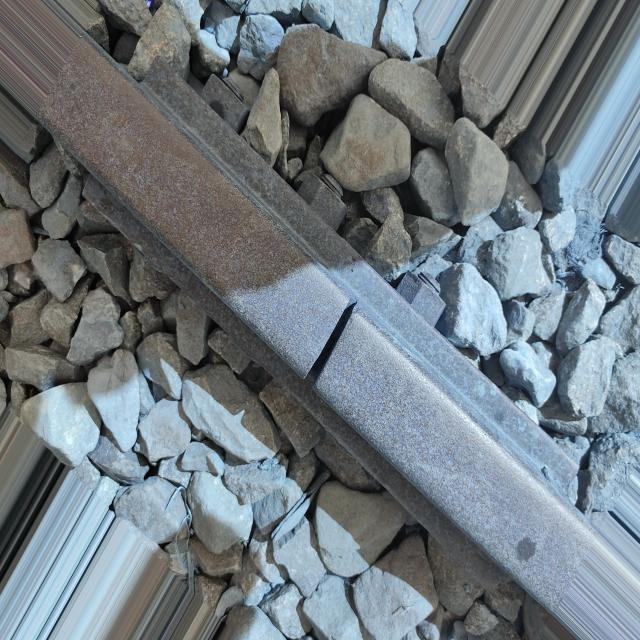crack: (278, 276, 368, 431)
